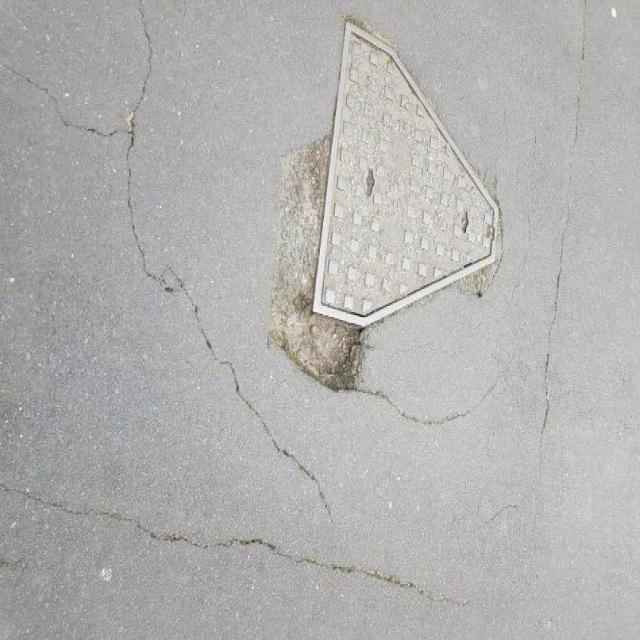pothole: (264, 126, 372, 404)
